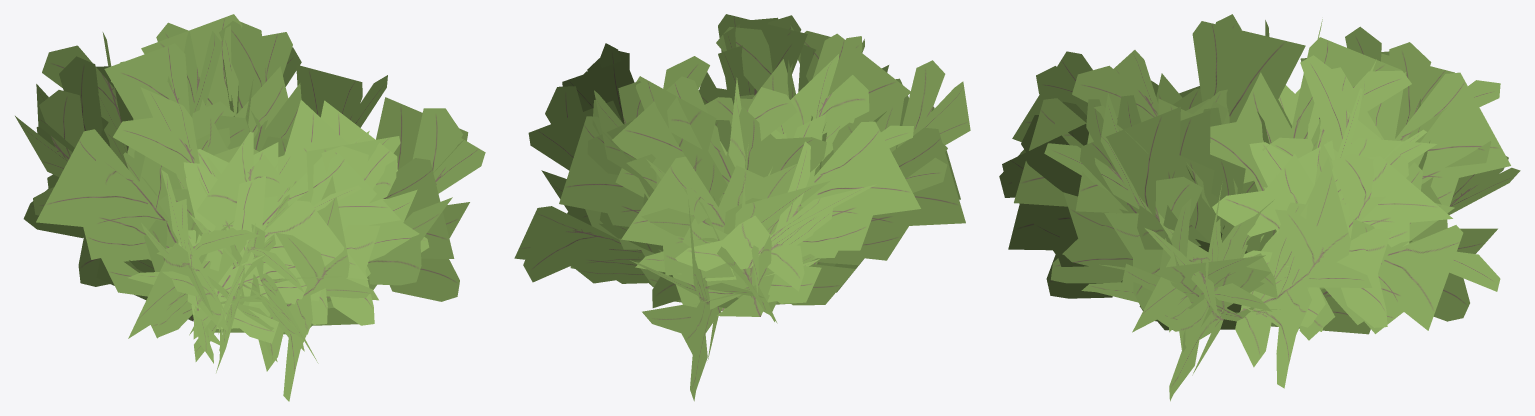
Rendered from tree_Broadleaf_Bush_M1_LOD0.fbx.
3 renders of one model, left to right at view 1: azimuth 30°, elevation 25°; view 2: azimuth 150°, elevation 25°; view 3: azimuth 270°, elevation 25°, orthographic. The views are drawn at different scales.
Visible parts, largest first — view 1: Broadleaf_Bush_M1_LOD0; view 2: Broadleaf_Bush_M1_LOD0; view 3: Broadleaf_Bush_M1_LOD0.
Part boxes in pixels (x1=…): Broadleaf_Bush_M1_LOD0: x1=15, y1=14, x2=485, y2=401; Broadleaf_Bush_M1_LOD0: x1=514, y1=14, x2=970, y2=401; Broadleaf_Bush_M1_LOD0: x1=999, y1=14, x2=1520, y2=401.
Size of the model in its own units: 310 by 213 by 336.
